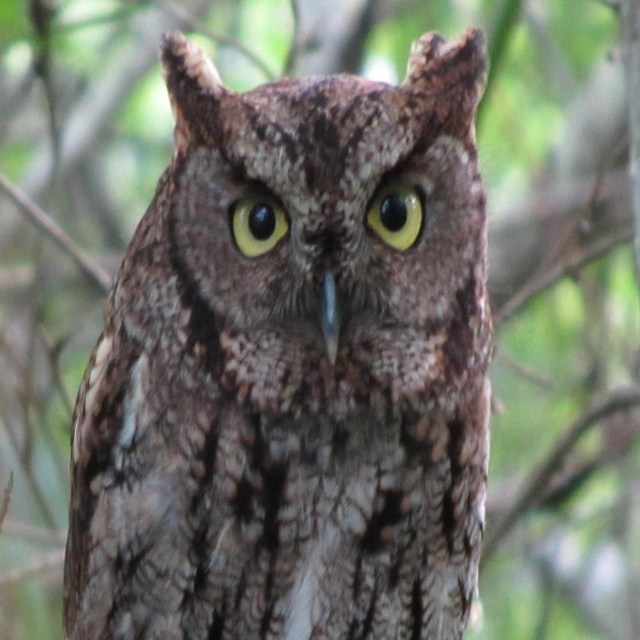Owl: (65, 25, 492, 639)
